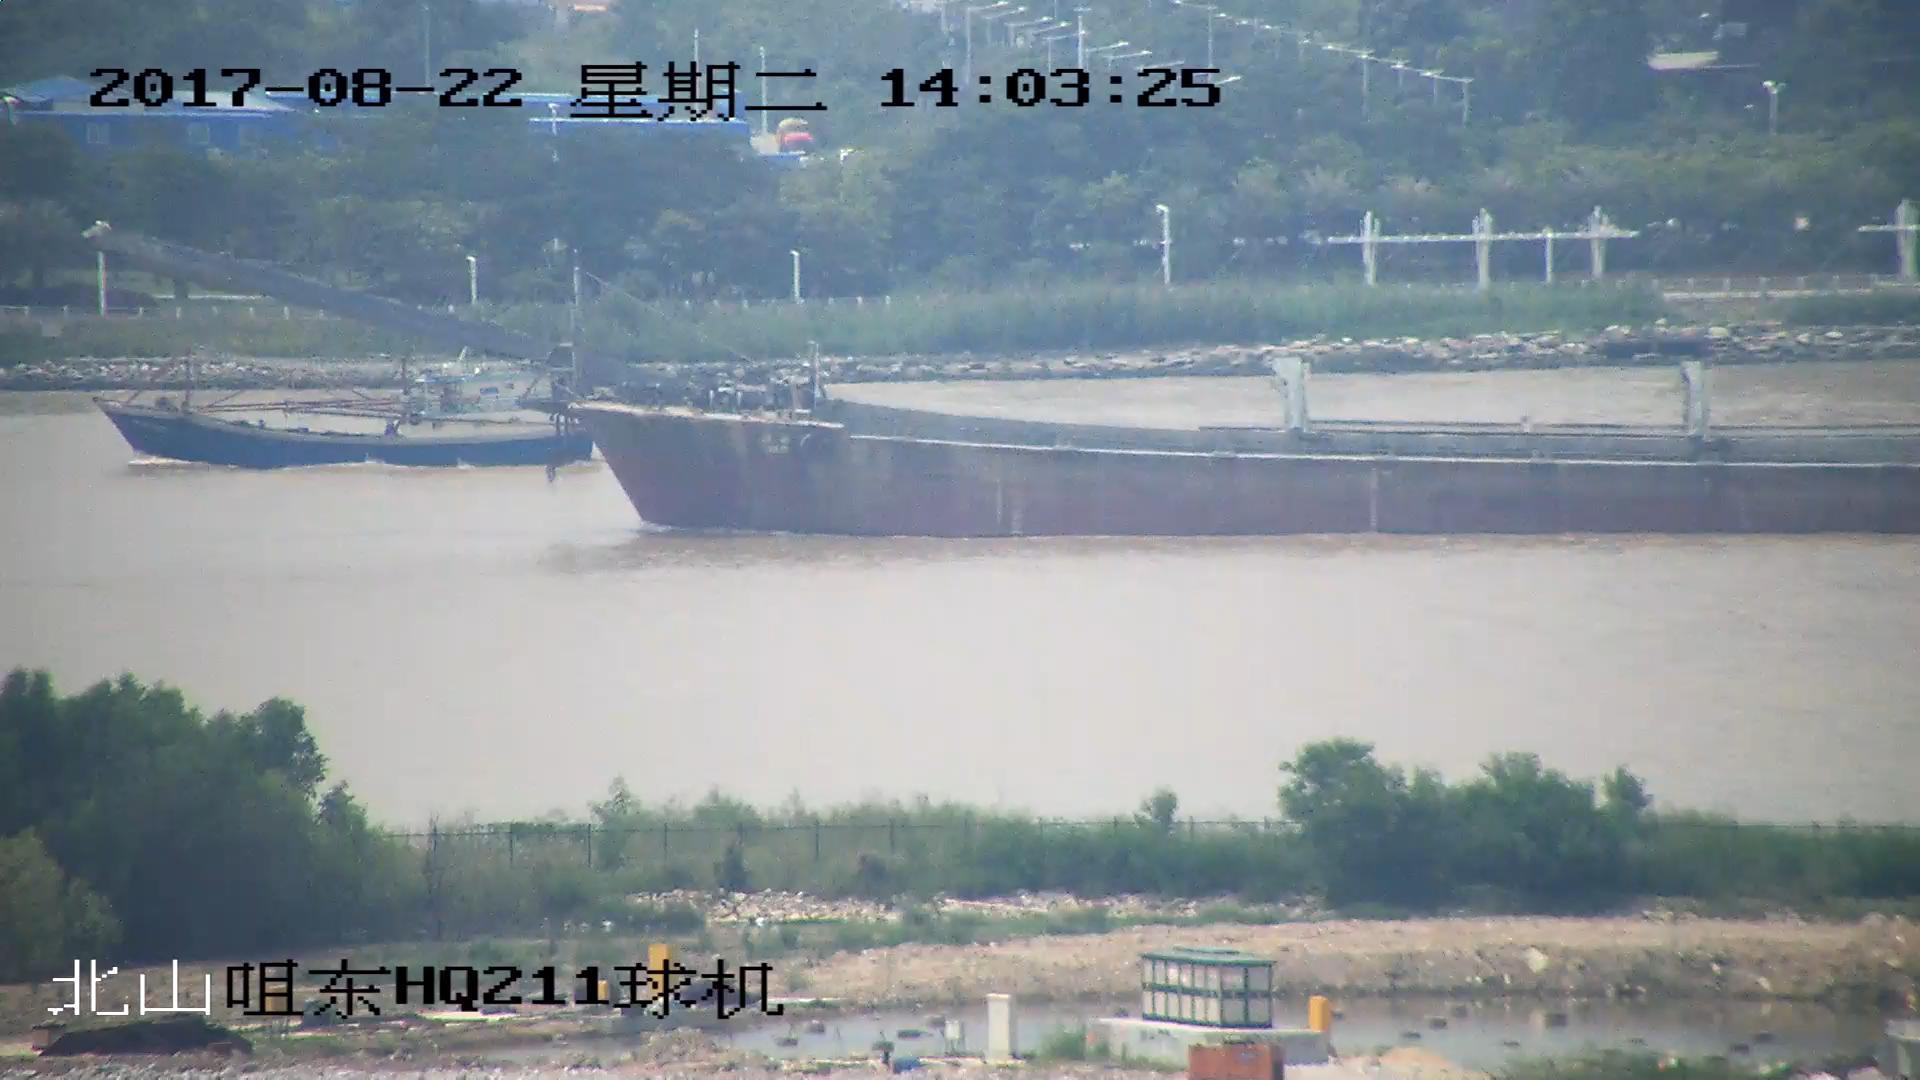Ship: (86, 228, 1920, 541), (94, 353, 593, 473)
